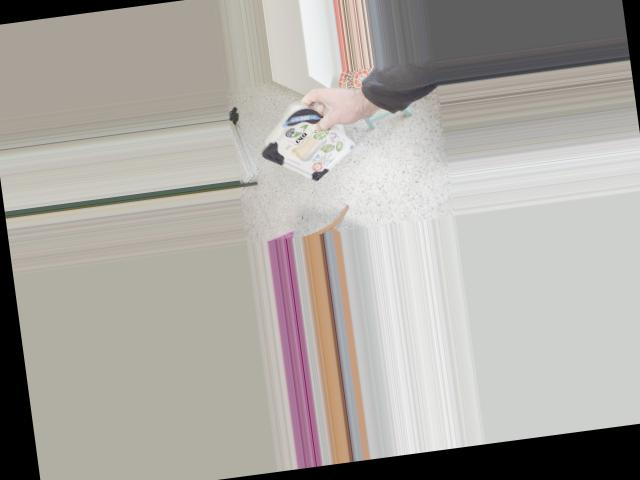cheese: (256, 81, 345, 196)
